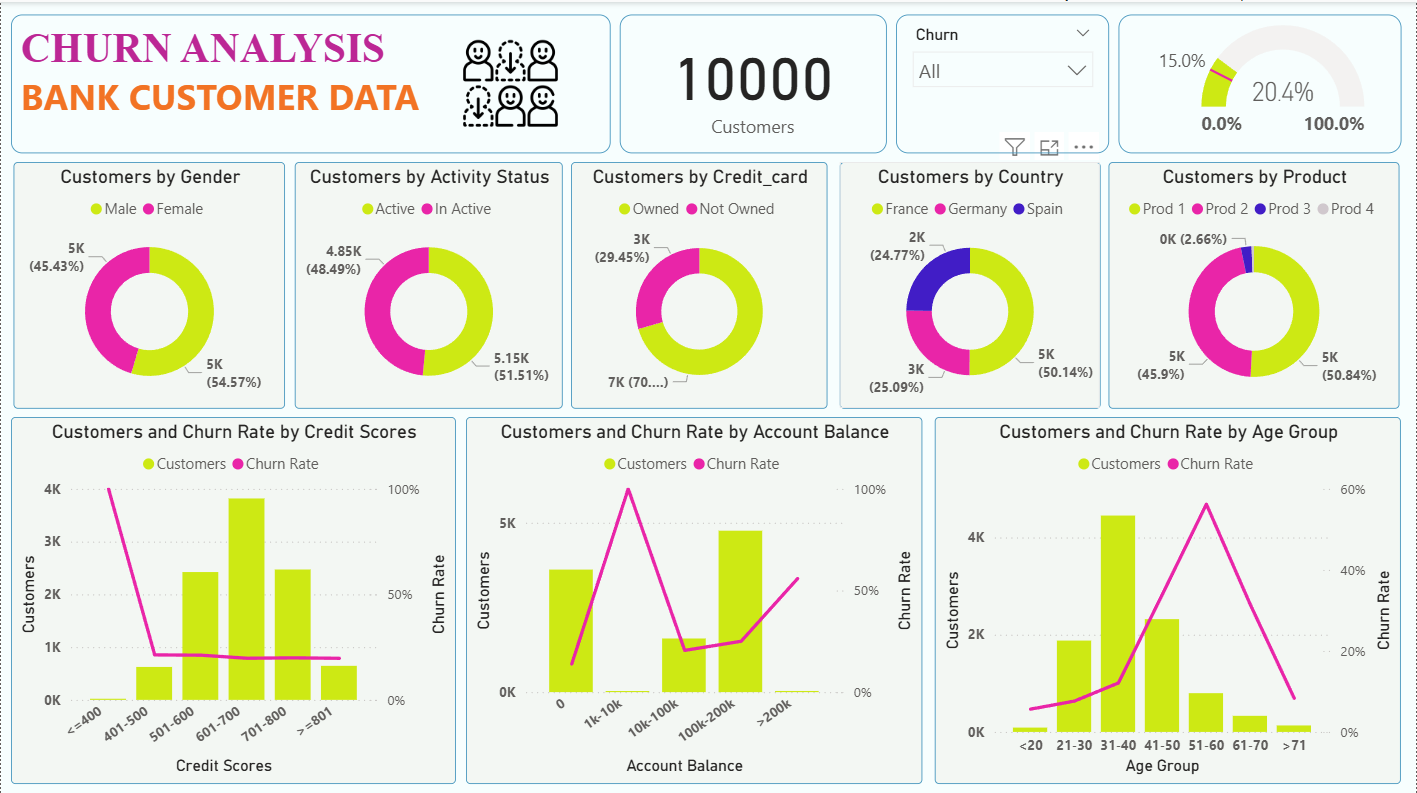

Layout of this report page (visuals, bound fields, positions):
{"tool":"powerbi","page":{"name":"Page 1","canvas":[1280,720],"ordinal":0},"visuals":[{"type":"card","fields":{"Values":["Customer data.Customers"]},"box":[559.8,11.5,241.4,125.3],"z":0},{"type":"donutChart","fields":{"Category":["Customer data.Gender"],"Y":["Customer data.Customers"]},"box":[11.5,144.8,246,223],"z":1000},{"type":"donutChart","title":"Customers by Activity Status","fields":{"Category":["Customer data.Activity Status"],"Y":["CountNonNull(Customer data.Gender)"]},"box":[265.5,144.8,242.5,223],"z":2000},{"type":"donutChart","fields":{"Category":["Customer data.Credit_card"],"Y":["Customer data.Customers"]},"box":[516.1,144.8,232.2,223],"z":3000},{"type":"donutChart","fields":{"Y":["Customer data.Customers"],"Category":["Customer data.Country"]},"box":[758.6,144.8,235.6,223],"z":4000},{"type":"donutChart","fields":{"Y":["Customer data.Customers"],"Category":["Customer data.Product"]},"box":[1002.3,144.8,263.2,223],"z":5000},{"type":"lineStackedColumnComboChart","fields":{"Category":["Age Group.Age Group"],"Y":["Customer data.Customers"],"Y2":["Customer data.Churn Rate"]},"box":[844.8,375.9,421.8,332.2],"z":6000},{"type":"lineStackedColumnComboChart","fields":{"Y":["Customer data.Customers"],"Y2":["Customer data.Churn Rate"],"Category":["Credit score.Credit Scores"]},"box":[9.2,375.9,402.3,332.2],"z":7000},{"type":"lineStackedColumnComboChart","fields":{"Y":["Customer data.Customers"],"Y2":["Customer data.Churn Rate"],"Category":["Account Balance.Account Balance"]},"box":[420.7,375.9,412.6,332.2],"z":8000},{"type":"slicer","fields":{"Values":["Customer data.Churn"]},"box":[809.2,11.5,193.1,125.3],"z":9000},{"type":"gauge","fields":{"Y":["Customer data.Churn Rate"],"MinValue":["Min(Customer data.Min Churn)"],"MaxValue":["Max(Customer data.Max Churn)"],"TargetValue":["Max(Customer data.Target Churn)"]},"box":[1010.3,11.5,256.3,125.3],"z":10000},{"type":"textbox","box":[9.2,11.5,542.5,125.3],"z":11000},{"type":"image","box":[371.3,26.4,180.5,95.4],"z":12000}]}

Visuals, with their boxes in screenshot pixels (x1, y1, x2, y2), scaled from the page's 1280x720 canvas onto the 1417x793 screenshot:
card - Customer data.Customers: rect(620, 13, 887, 151)
donutChart - Customer data.Gender x Customer data.Customers: rect(13, 159, 285, 405)
"Customers by Activity Status" donutChart: rect(294, 159, 562, 405)
donutChart - Customer data.Credit_card x Customer data.Customers: rect(571, 159, 828, 405)
donutChart - Customer data.Customers x Customer data.Country: rect(840, 159, 1101, 405)
donutChart - Customer data.Customers x Customer data.Product: rect(1110, 159, 1401, 405)
lineStackedColumnComboChart - Age Group.Age Group x Customer data.Customers: rect(935, 414, 1402, 780)
lineStackedColumnComboChart - Customer data.Customers x Customer data.Churn Rate: rect(10, 414, 456, 780)
lineStackedColumnComboChart - Customer data.Customers x Customer data.Churn Rate: rect(466, 414, 922, 780)
slicer - Customer data.Churn: rect(896, 13, 1110, 151)
gauge - Customer data.Churn Rate x Min(Customer data.Min Churn): rect(1118, 13, 1402, 151)
textbox: rect(10, 13, 611, 151)
image: rect(411, 29, 611, 134)
